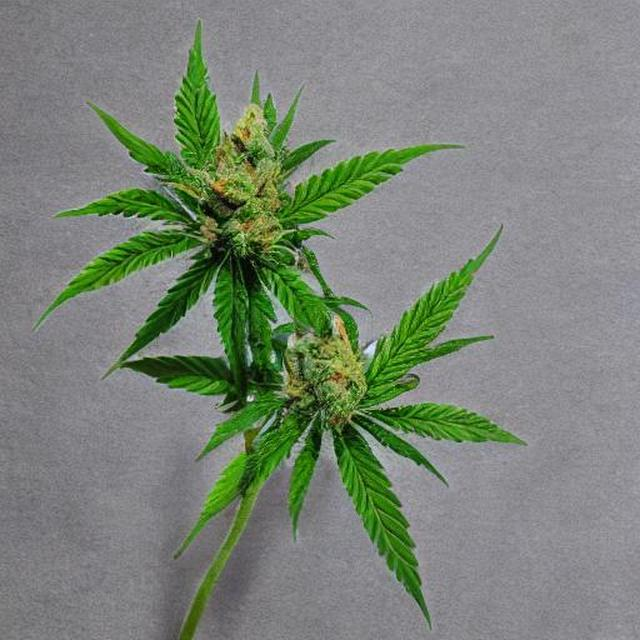Marijuana Plant: (1, 33, 640, 572)
